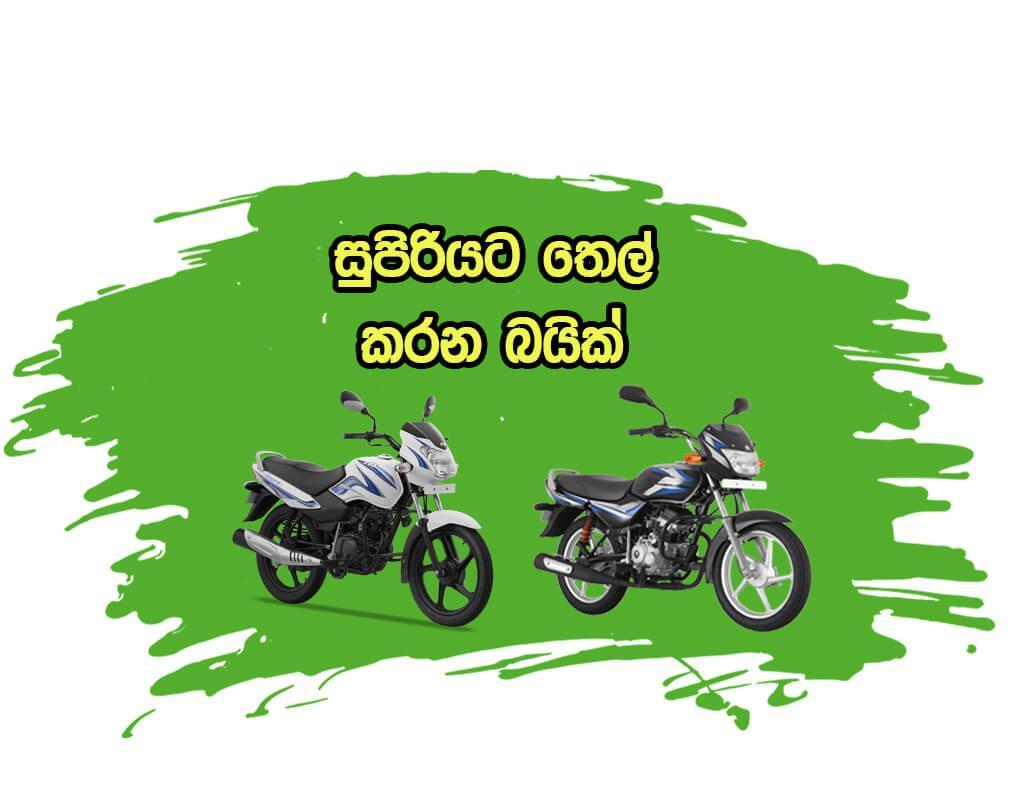motorbike: (534, 382, 811, 633), (231, 391, 491, 627)
